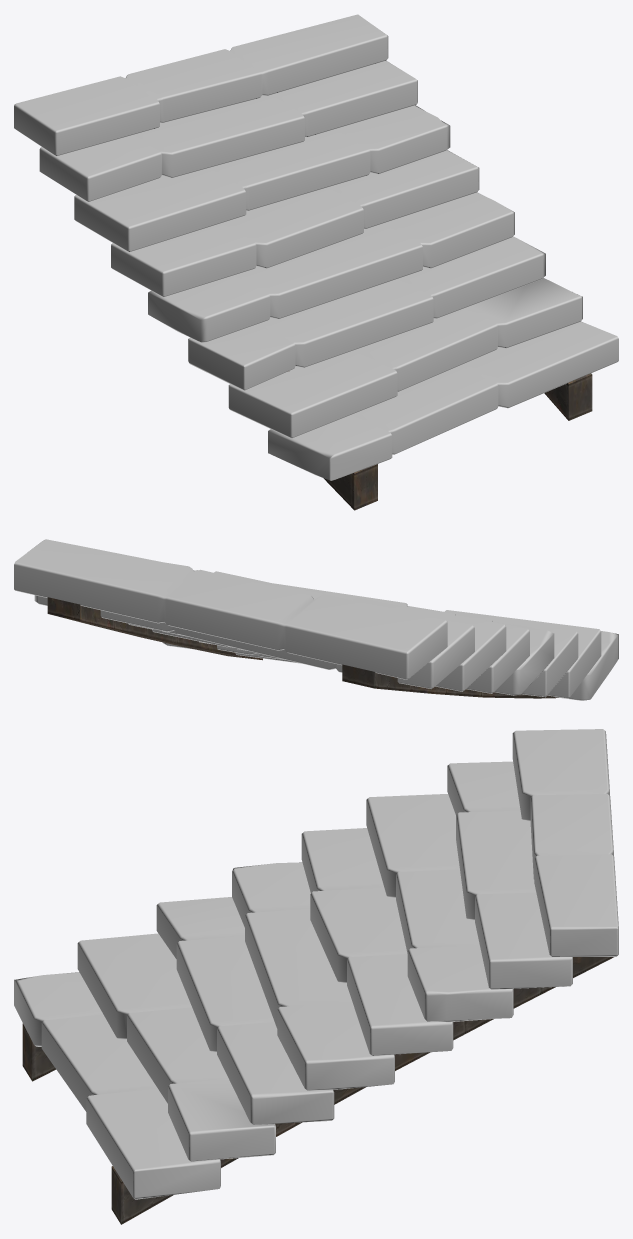
The picture shows the model from 3 angles, top to bottom: view 1: azimuth 30°, elevation 25°; view 2: azimuth 150°, elevation 25°; view 3: azimuth 270°, elevation 25°; orthographic projection. The views are drawn at different scales.
Parts seen in each view (by area): view 1: SM_Library_Steps_A_LOD0; view 2: SM_Library_Steps_A_LOD0; view 3: SM_Library_Steps_A_LOD0.
Boxes of the visible parts, box(x1,y1,x2,y2) form: SM_Library_Steps_A_LOD0: box(14, 14, 618, 510); SM_Library_Steps_A_LOD0: box(14, 539, 618, 700); SM_Library_Steps_A_LOD0: box(14, 729, 618, 1224).
Size of the model in its own units: 4.03 by 2.35 by 4.5.
